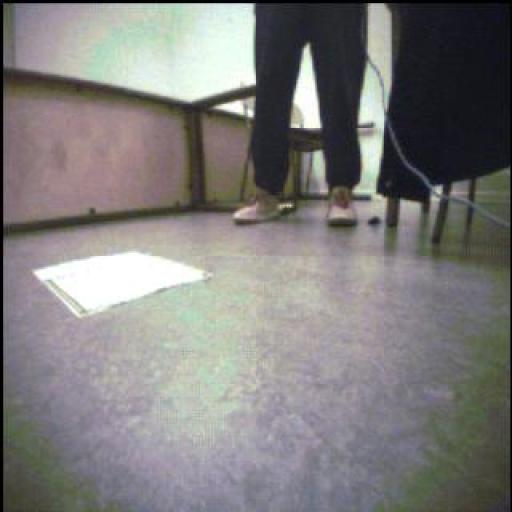Pad: (35, 252, 212, 318)
